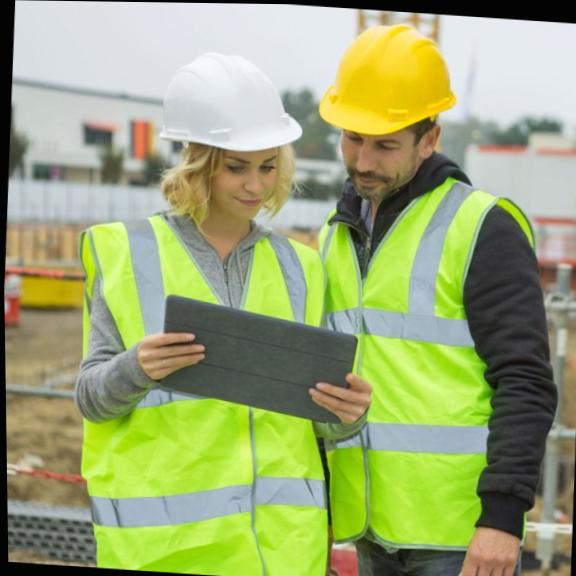safety_vest: (62, 203, 335, 576), (296, 164, 504, 535)
